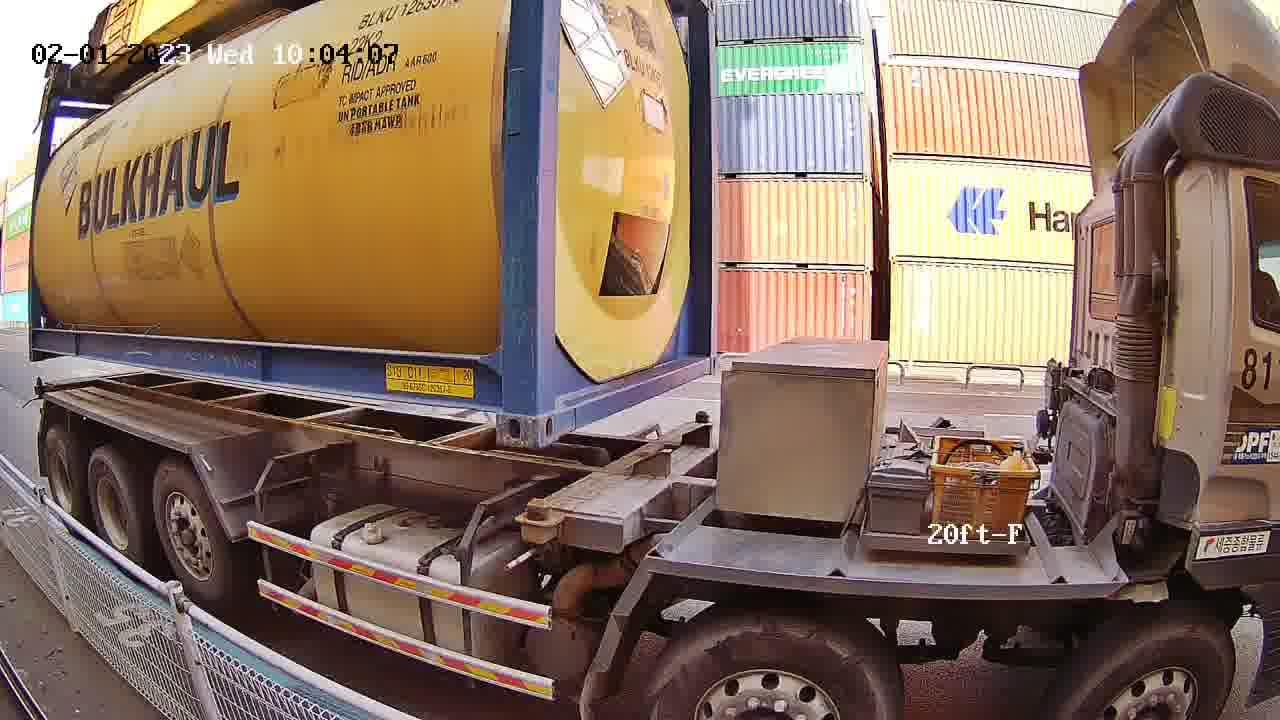Chassis: (518, 421, 714, 526)
Cone: (514, 494, 557, 562), (690, 408, 715, 427)
Hole_L: (534, 369, 582, 449)
Hole_R: (467, 373, 534, 450), (697, 340, 718, 376)
Tire: (152, 462, 227, 596), (88, 449, 145, 572), (44, 427, 80, 523)
